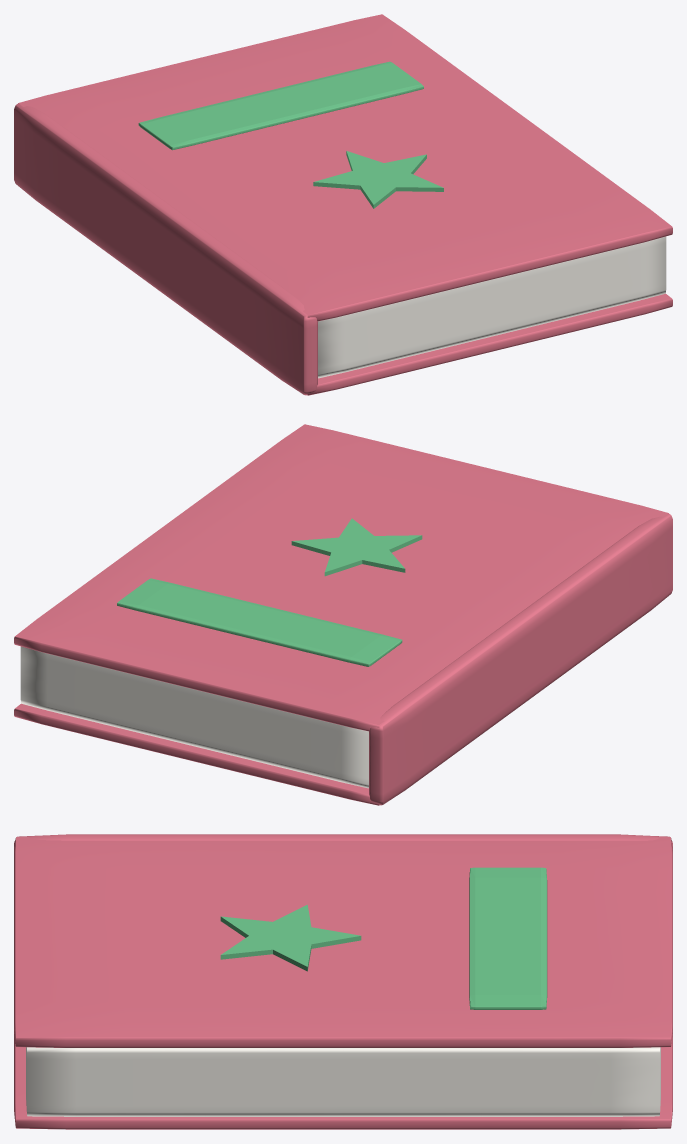
File: DiceDashRuleBook.glb
3 renders of one model, top to bottom at view 1: azimuth 30°, elevation 25°; view 2: azimuth 150°, elevation 25°; view 3: azimuth 270°, elevation 25°, orthographic. The views are drawn at different scales.
Visible parts, largest first — view 1: Cover, Pages, Band; view 2: Cover, Pages, Band; view 3: Cover, Pages, Band.
Part boxes in pixels (x1,y1,x2,y2): Cover: [14, 14, 672, 395]; Pages: [318, 236, 666, 378]; Band: [138, 61, 443, 208]; Cover: [14, 424, 672, 805]; Pages: [20, 646, 368, 788]; Band: [117, 518, 422, 666]; Cover: [14, 834, 672, 1129]; Pages: [26, 1047, 660, 1116]; Band: [220, 867, 547, 1009].
Size of the model in its own units: 16.2 by 3.67 by 22.
